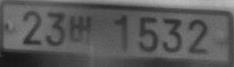1: (111, 13, 133, 52)
2: (187, 18, 208, 54), (22, 9, 42, 45)
3: (161, 17, 182, 53), (45, 11, 66, 46)
5: (137, 15, 158, 53)
버: (68, 14, 92, 46)
